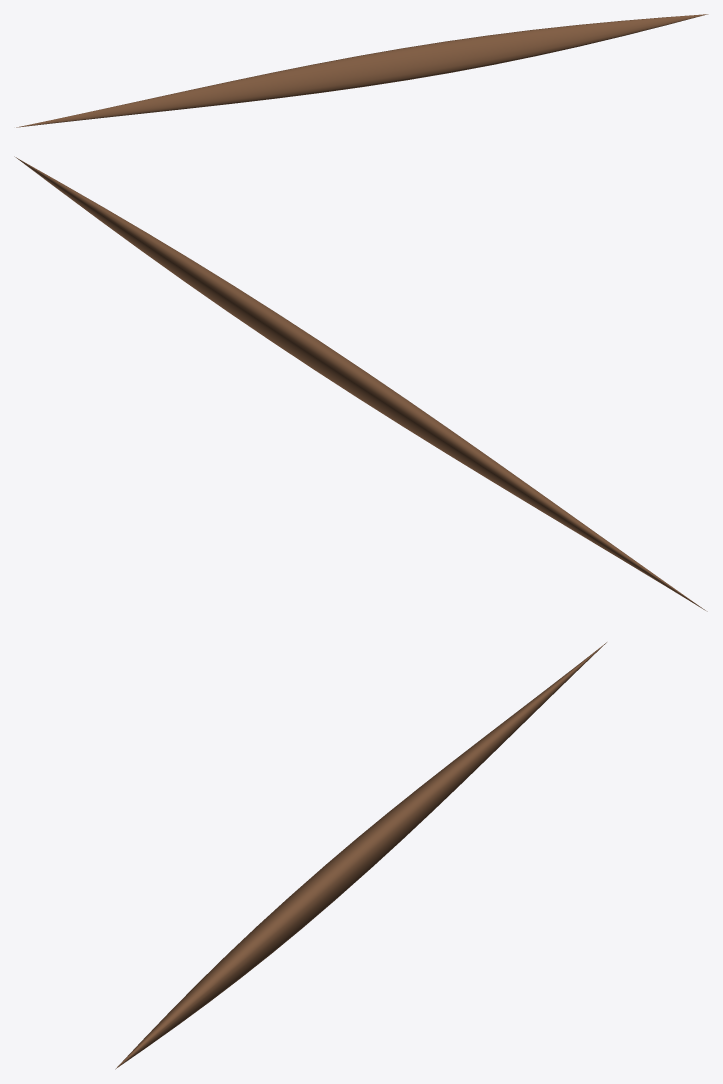
The model's file is before-close.glb.
3 renders of one model, top to bottom at view 1: azimuth 30°, elevation 25°; view 2: azimuth 150°, elevation 25°; view 3: azimuth 270°, elevation 25°, orthographic. The views are drawn at different scales.
Parts seen in each view (by area): view 1: animal::body_fur/000000; view 2: animal::body_fur/000000; view 3: animal::body_fur/000000.
Boxes of the visible parts, left/top/right/bottom form: animal::body_fur/000000: left=16, top=14, right=708, bottom=127; animal::body_fur/000000: left=14, top=156, right=707, bottom=611; animal::body_fur/000000: left=115, top=642, right=606, bottom=1069.
Size of the model in its own units: 0.0149 by 0.00161 by 0.00557.
